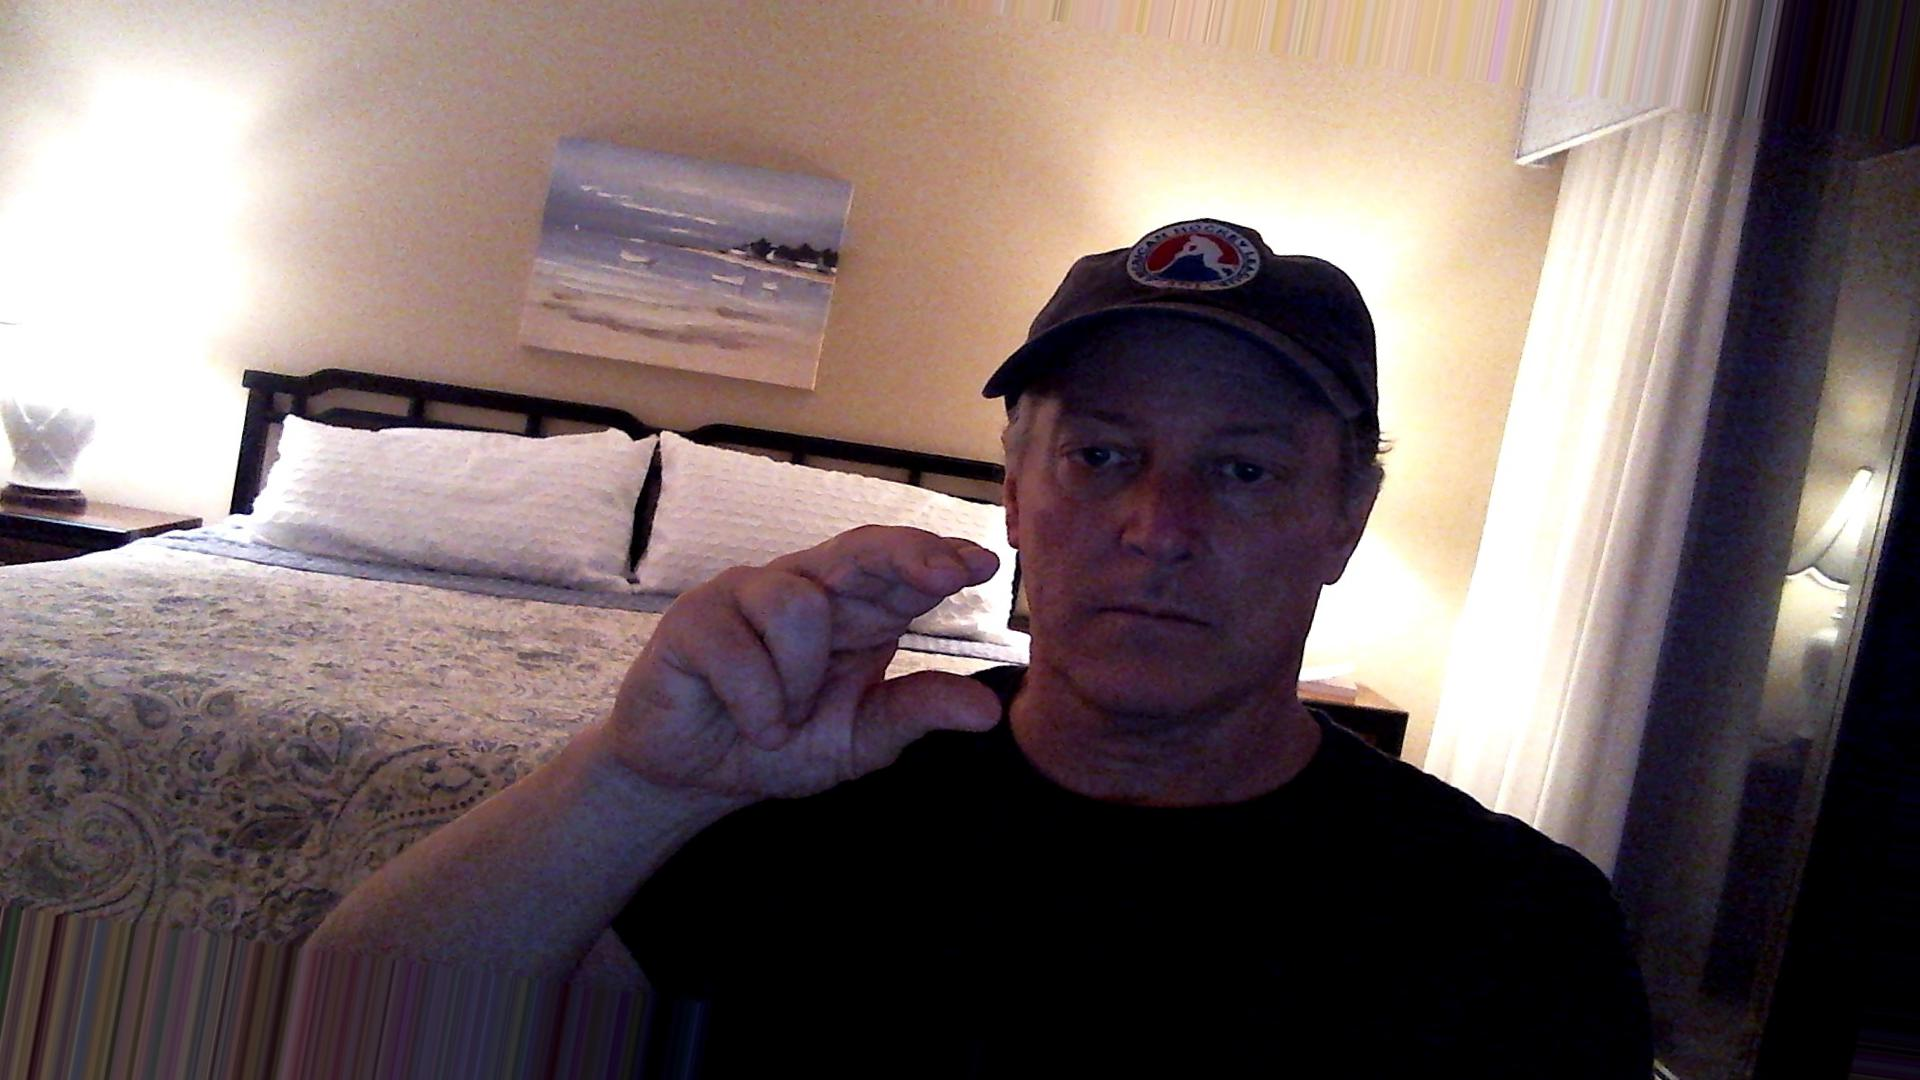No: (609, 487, 1033, 818)
